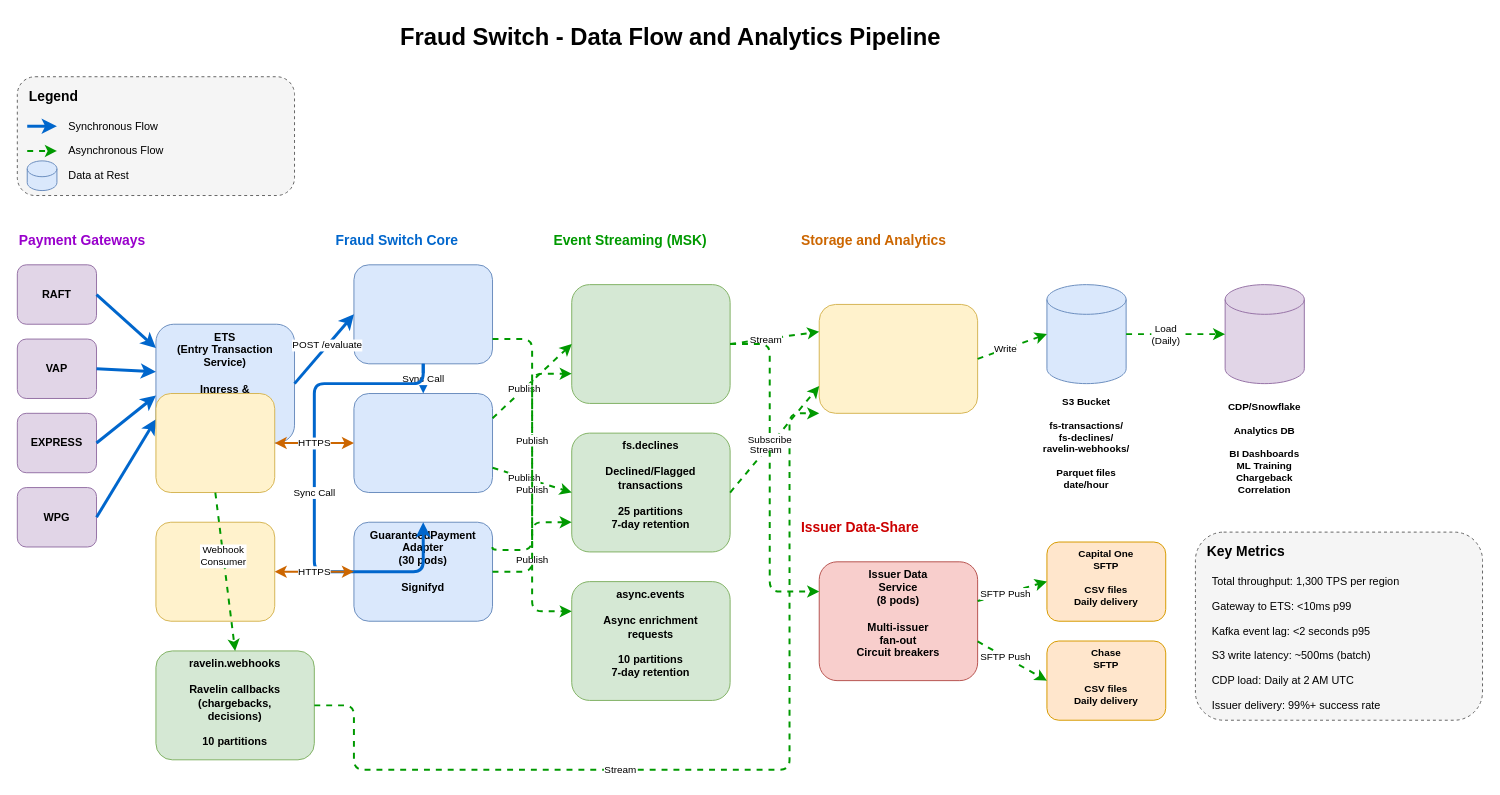
Some shapes in this 1500 by 795 pixel diagram are drawn without their labels. Each missing label, with the centre of its shape:
"Fraud Router (60 pods) Transaction Orchestration" belongs at point 423,314.
"FraudSight Adapter (30 pods) Ravelin" belongs at point 423,443.
"fs.transactions All successful fraud evaluations 25 partitions 7-day retention" belongs at point 650,343.
"Kafka Connect S3 Sink Connector Parquet format Hourly batches" belongs at point 898,358.
"Ravelin (External) FraudSight API" belongs at point 215,443.
"Signifyd (External) Guaranteed Payment API" belongs at point 215,571.
